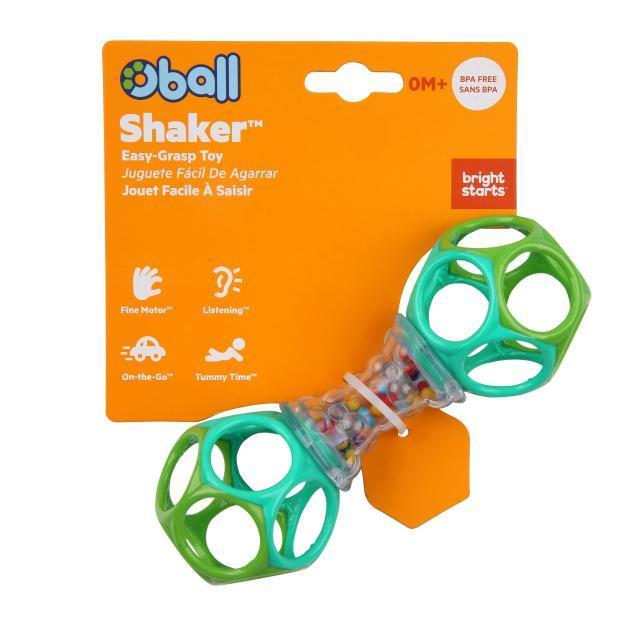hard-toy: (161, 217, 591, 584)
